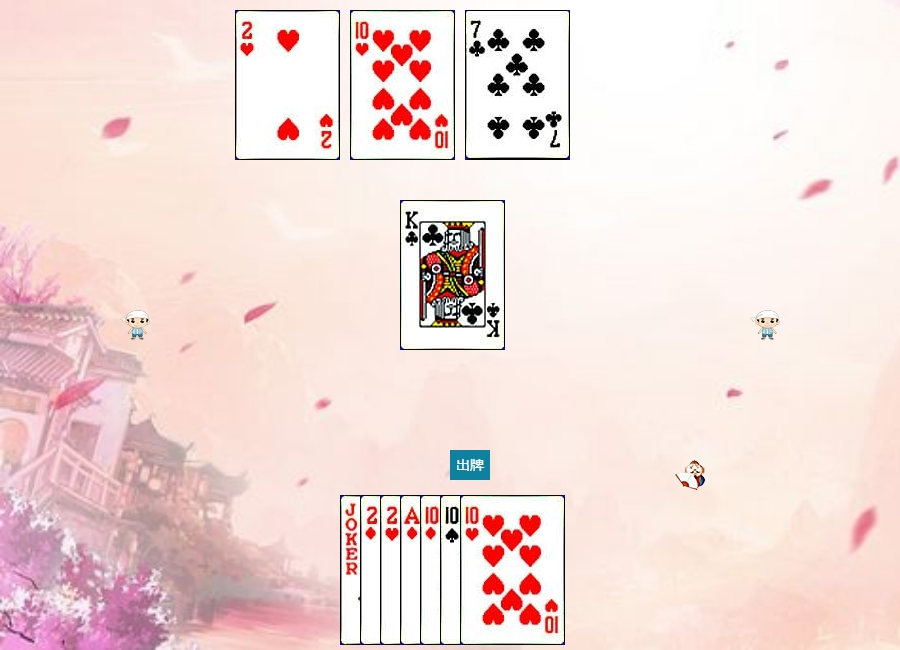10~1: (420, 495, 525, 645)
10~3: (350, 10, 455, 160), (460, 495, 565, 645)
10~4: (440, 495, 545, 645)
13~2: (400, 200, 505, 350)
14~1: (400, 495, 505, 645)
15~1: (360, 495, 465, 645)
15~3: (235, 10, 340, 160), (380, 495, 485, 645)
18~4: (340, 495, 445, 645)
7~2: (465, 10, 570, 160)
